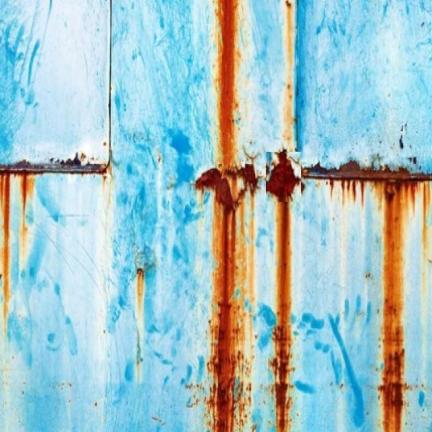karat: (196, 0, 258, 431), (0, 171, 42, 319)
